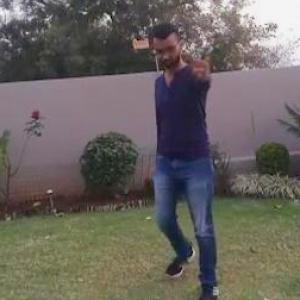takeoff-hand: (186, 37, 221, 90)
